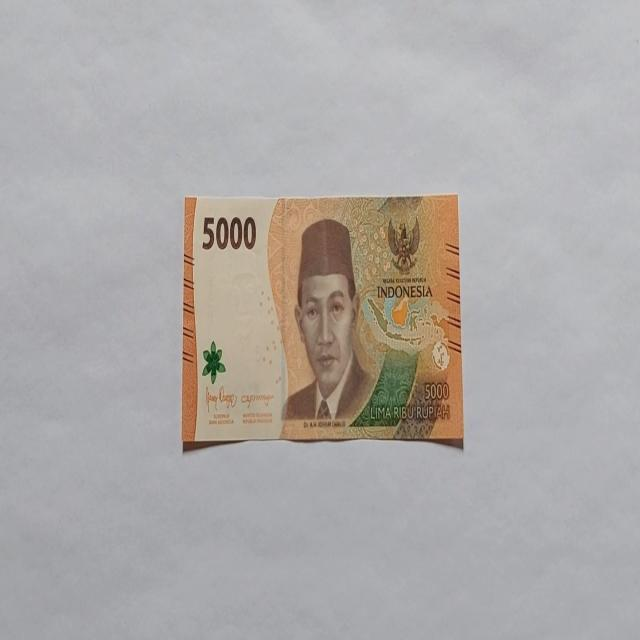lima ribu rupiah: (181, 193, 463, 450), (281, 217, 376, 425)
